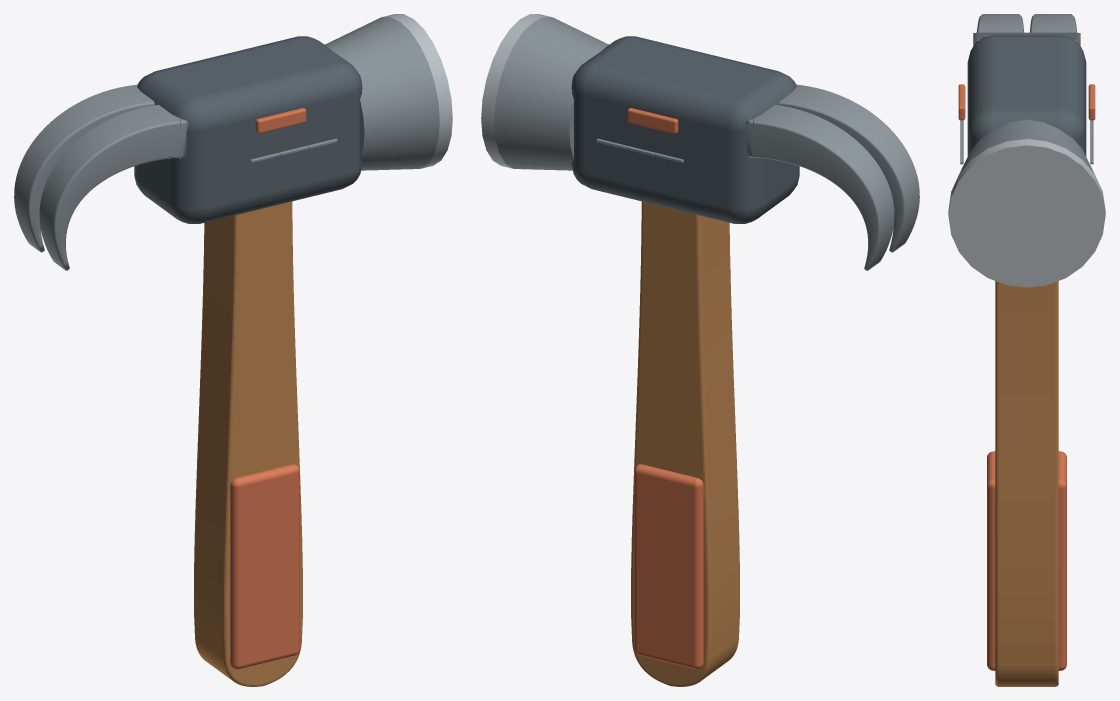
File: workshop-hammer-symmetric.glb
3 views of the same model, side by side, from view 1: azimuth 30°, elevation 25°; view 2: azimuth 150°, elevation 25°; view 3: azimuth 270°, elevation 25° (orthographic).
Visible parts, largest first — view 1: Wood Handle, steelInset, Grip Front, steel, Claw Back, Claw Front, steelEdge, coral; view 2: Wood Handle, steelInset, Grip Back, steel, Claw Front, Claw Back, steelEdge, coral; view 3: Wood Handle, steelEdge, steelInset, steel, Grip Front, Grip Back, Claw Front, Claw Back, coral.
Boxes of the visible parts, left/top/right/bottom form: Wood Handle: left=194, top=201, right=302, bottom=686; steelInset: left=134, top=36, right=362, bottom=223; Grip Front: left=230, top=464, right=299, bottom=669; steel: left=180, top=17, right=439, bottom=170; Claw Back: left=39, top=104, right=188, bottom=270; Claw Front: left=14, top=84, right=154, bottom=252; steelEdge: left=382, top=14, right=452, bottom=168; coral: left=255, top=108, right=306, bottom=133; Wood Handle: left=631, top=201, right=739, bottom=686; steelInset: left=571, top=36, right=799, bottom=223; Grip Back: left=634, top=464, right=703, bottom=669; steel: left=494, top=17, right=753, bottom=170; Claw Front: left=745, top=104, right=894, bottom=270; Claw Back: left=779, top=84, right=919, bottom=252; steelEdge: left=481, top=14, right=551, bottom=168; coral: left=627, top=108, right=678, bottom=133; Wood Handle: left=995, top=281, right=1058, bottom=686; steelEdge: left=948, top=139, right=1105, bottom=287; steelInset: left=967, top=35, right=1086, bottom=156; steel: left=959, top=32, right=1094, bottom=173; Grip Front: left=987, top=451, right=995, bottom=670; Grip Back: left=1058, top=451, right=1066, bottom=670; Claw Front: left=1030, top=14, right=1078, bottom=42; Claw Back: left=975, top=14, right=1023, bottom=42; coral: left=958, top=84, right=1095, bottom=120.
Bounding box in the file's own units: 0.2635 × 0.408 × 0.094.
